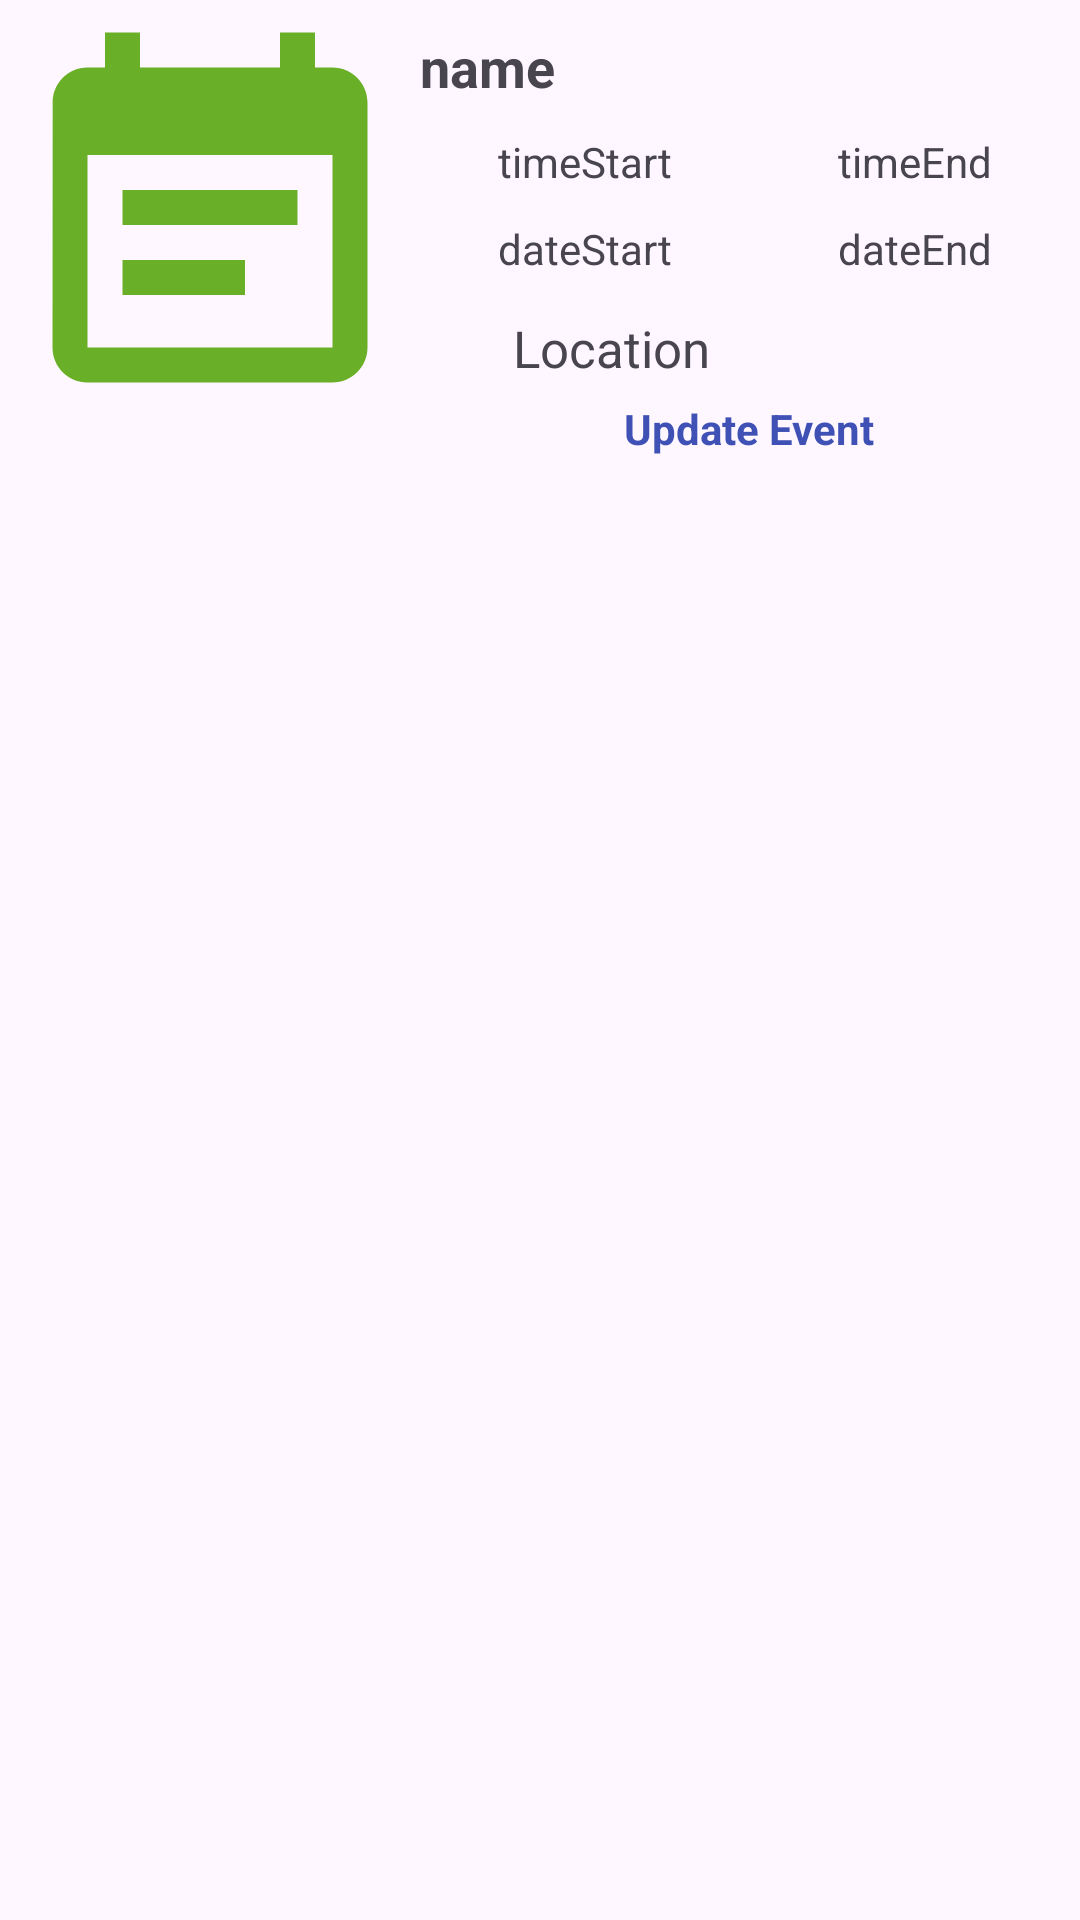

Icons on this 1080px×1920px Android screen, each with its box as (x1, y1, x2, y2):
event: (52, 32, 368, 383)
